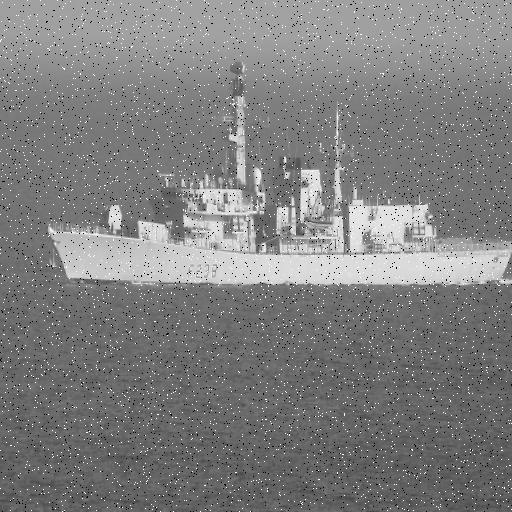Fragata: (45, 56, 512, 294)
